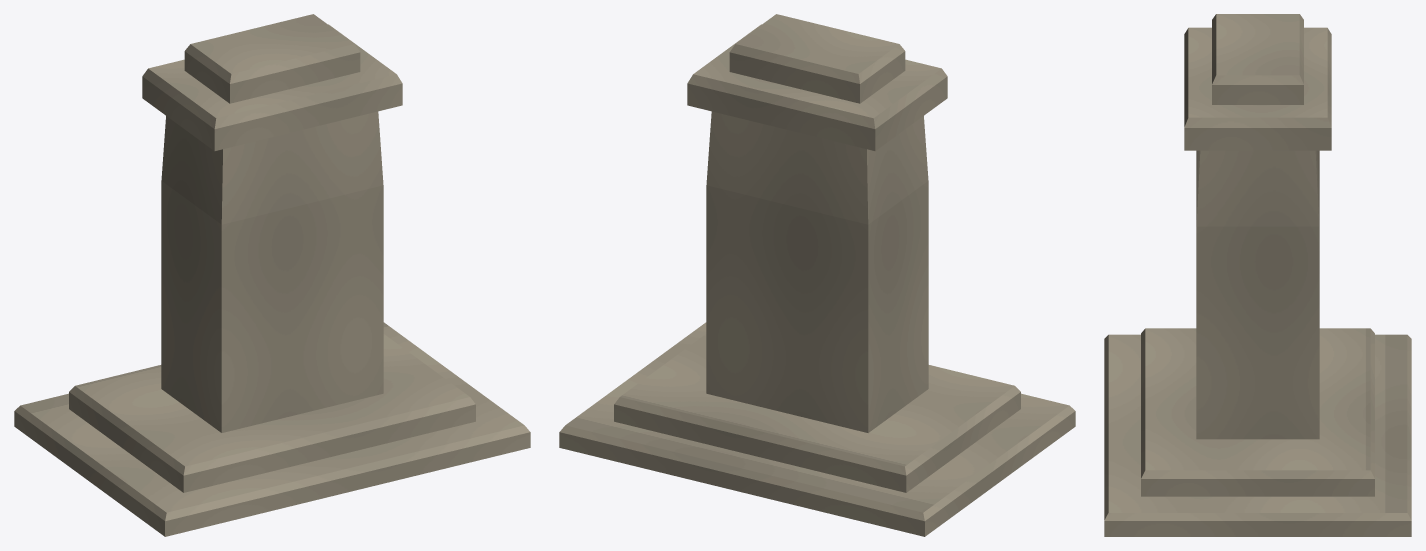
3 renders of one model, left to right at view 1: azimuth 30°, elevation 25°; view 2: azimuth 150°, elevation 25°; view 3: azimuth 270°, elevation 25°, orthographic. The views are drawn at different scales.
Parts seen in each view (by area): view 1: hamilton; view 2: hamilton; view 3: hamilton.
Part boxes in pixels (left/top/right/bottom): hamilton: left=14, top=14, right=530, bottom=536; hamilton: left=559, top=14, right=1075, bottom=536; hamilton: left=1104, top=14, right=1411, bottom=536.
Size of the model in its own units: 3.5 by 3.6 by 2.5.
1 material, 1 textured.
